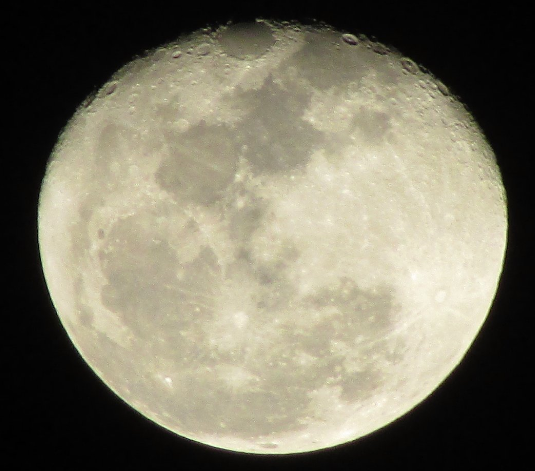crater: (195, 277, 293, 360), (397, 238, 472, 336), (162, 108, 196, 143), (447, 136, 473, 172), (224, 190, 250, 219), (150, 368, 180, 393), (333, 30, 360, 57), (192, 39, 215, 66), (90, 221, 113, 248), (354, 206, 377, 228), (210, 414, 235, 434), (384, 90, 401, 112), (123, 102, 143, 120), (127, 161, 145, 180), (168, 49, 185, 66), (301, 111, 317, 128), (412, 78, 428, 94), (286, 167, 299, 183)
